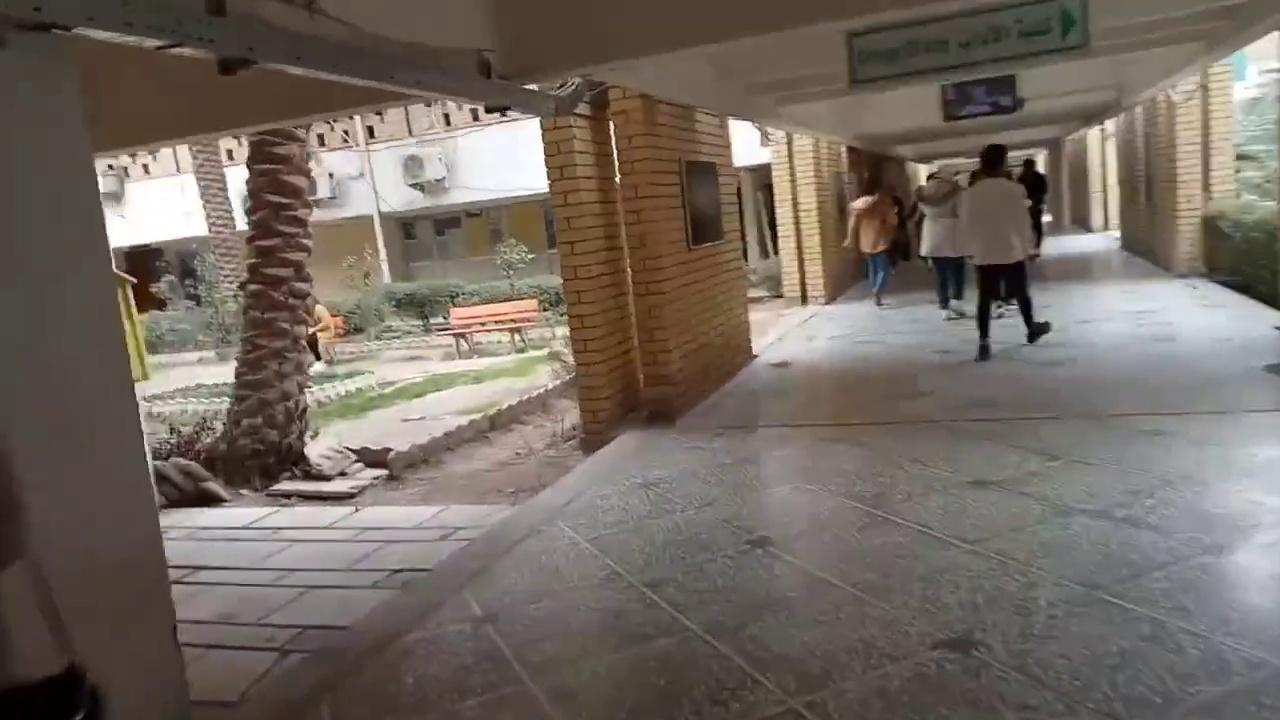person: (952, 143, 1052, 361), (910, 166, 967, 320), (841, 174, 903, 307), (151, 456, 231, 509), (1016, 158, 1047, 255), (304, 296, 336, 365)
tree: (198, 125, 320, 489), (339, 242, 387, 340), (189, 249, 232, 356), (492, 233, 535, 298), (189, 249, 220, 309)
